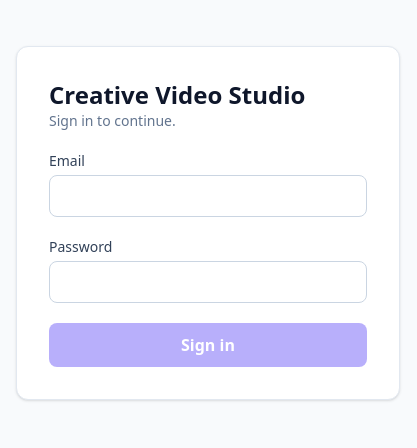
Test case: LoginPage › shows the server error for wrong credentials and clears the password
Type "me@example.com" into the field labelled "Email". click: (208, 196)
box: [49,175,367,217]
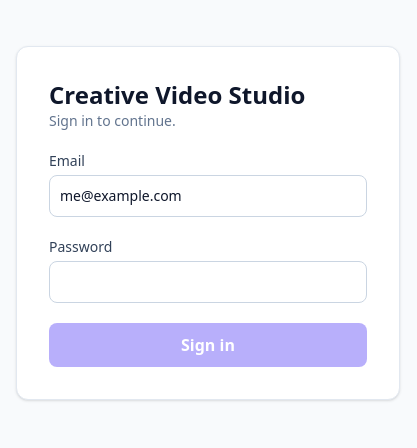
Type "wrong" into the password field labelled "Password". click: (208, 282)
box: [49,261,367,303]
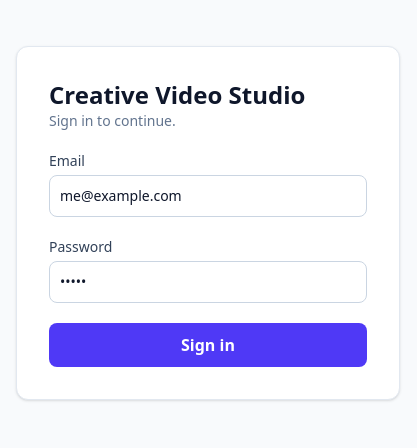
Click the button "Sign in". click: (208, 345)
box: [49,323,367,367]
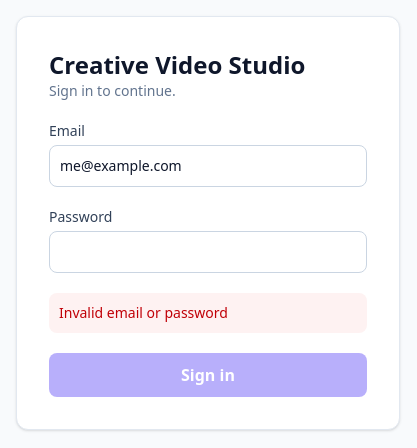
Now the text "Invalid email or password" is shown, box [49,293,367,333]
Now the password field labelled "Password" is empty, box [49,231,367,273]
